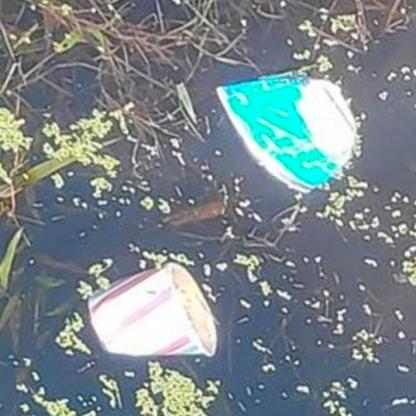Plastic: (214, 72, 361, 194), (86, 257, 218, 360)
